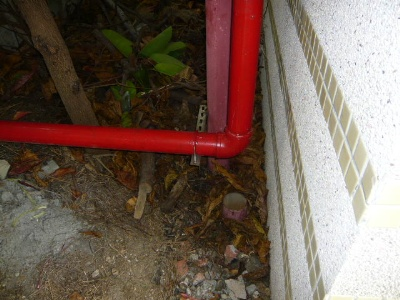bottle: (222, 191, 249, 220)
